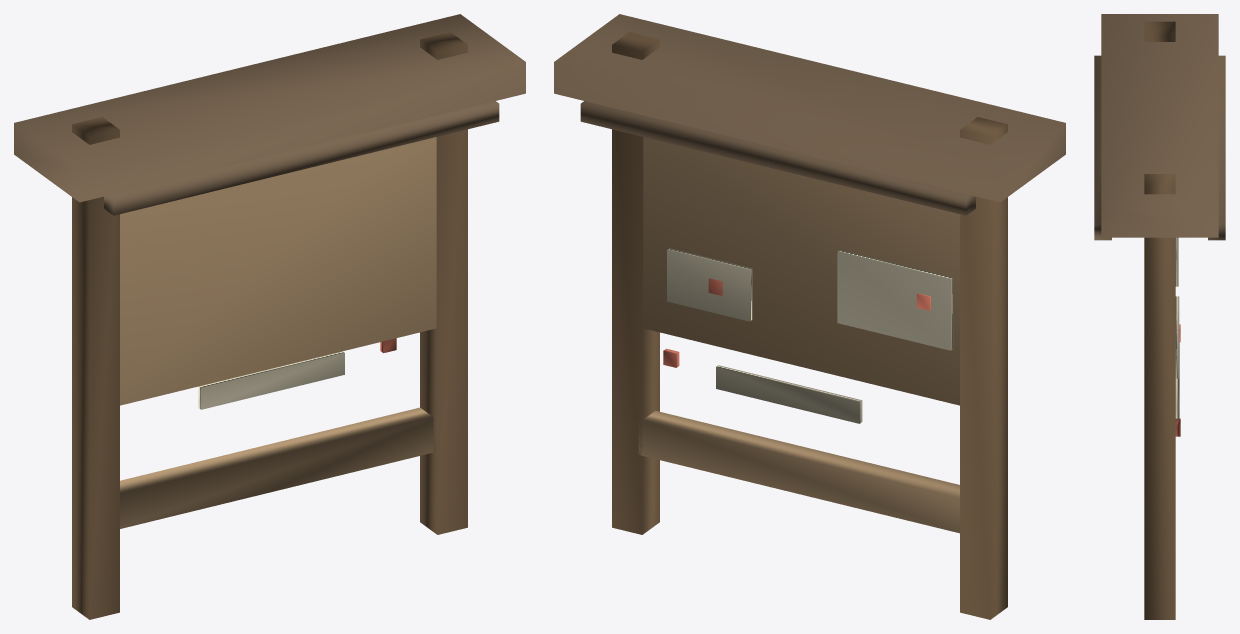
The model's file is kiosk.glb.
3 renders of one model, left to right at view 1: azimuth 30°, elevation 25°; view 2: azimuth 150°, elevation 25°; view 3: azimuth 270°, elevation 25°, orthographic. The views are drawn at different scales.
Parts seen in each view (by area): view 1: kiosk; view 2: kiosk; view 3: kiosk.
Part boxes in pixels (bbox=[...]): kiosk: bbox=[14, 14, 525, 619]; kiosk: bbox=[554, 14, 1065, 619]; kiosk: bbox=[1094, 14, 1225, 619].
Bounding box in the file's own units: 1.18 × 1.22 × 0.335.
